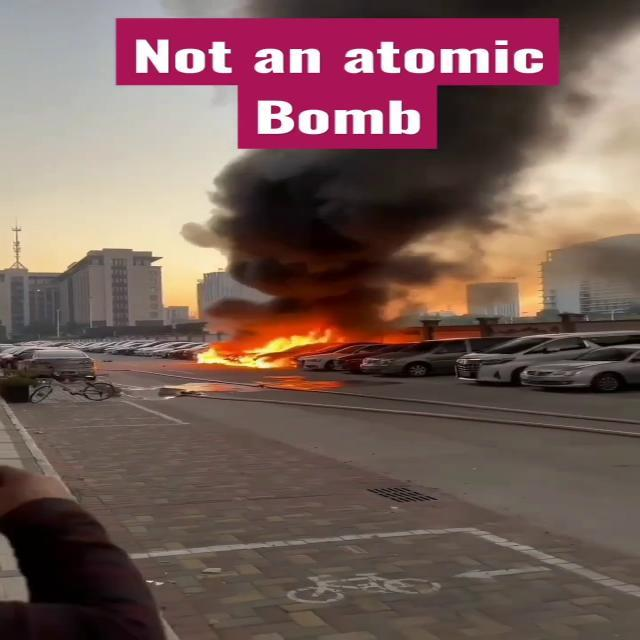Fire: (188, 324, 352, 368)
Smoke: (179, 84, 632, 320)
